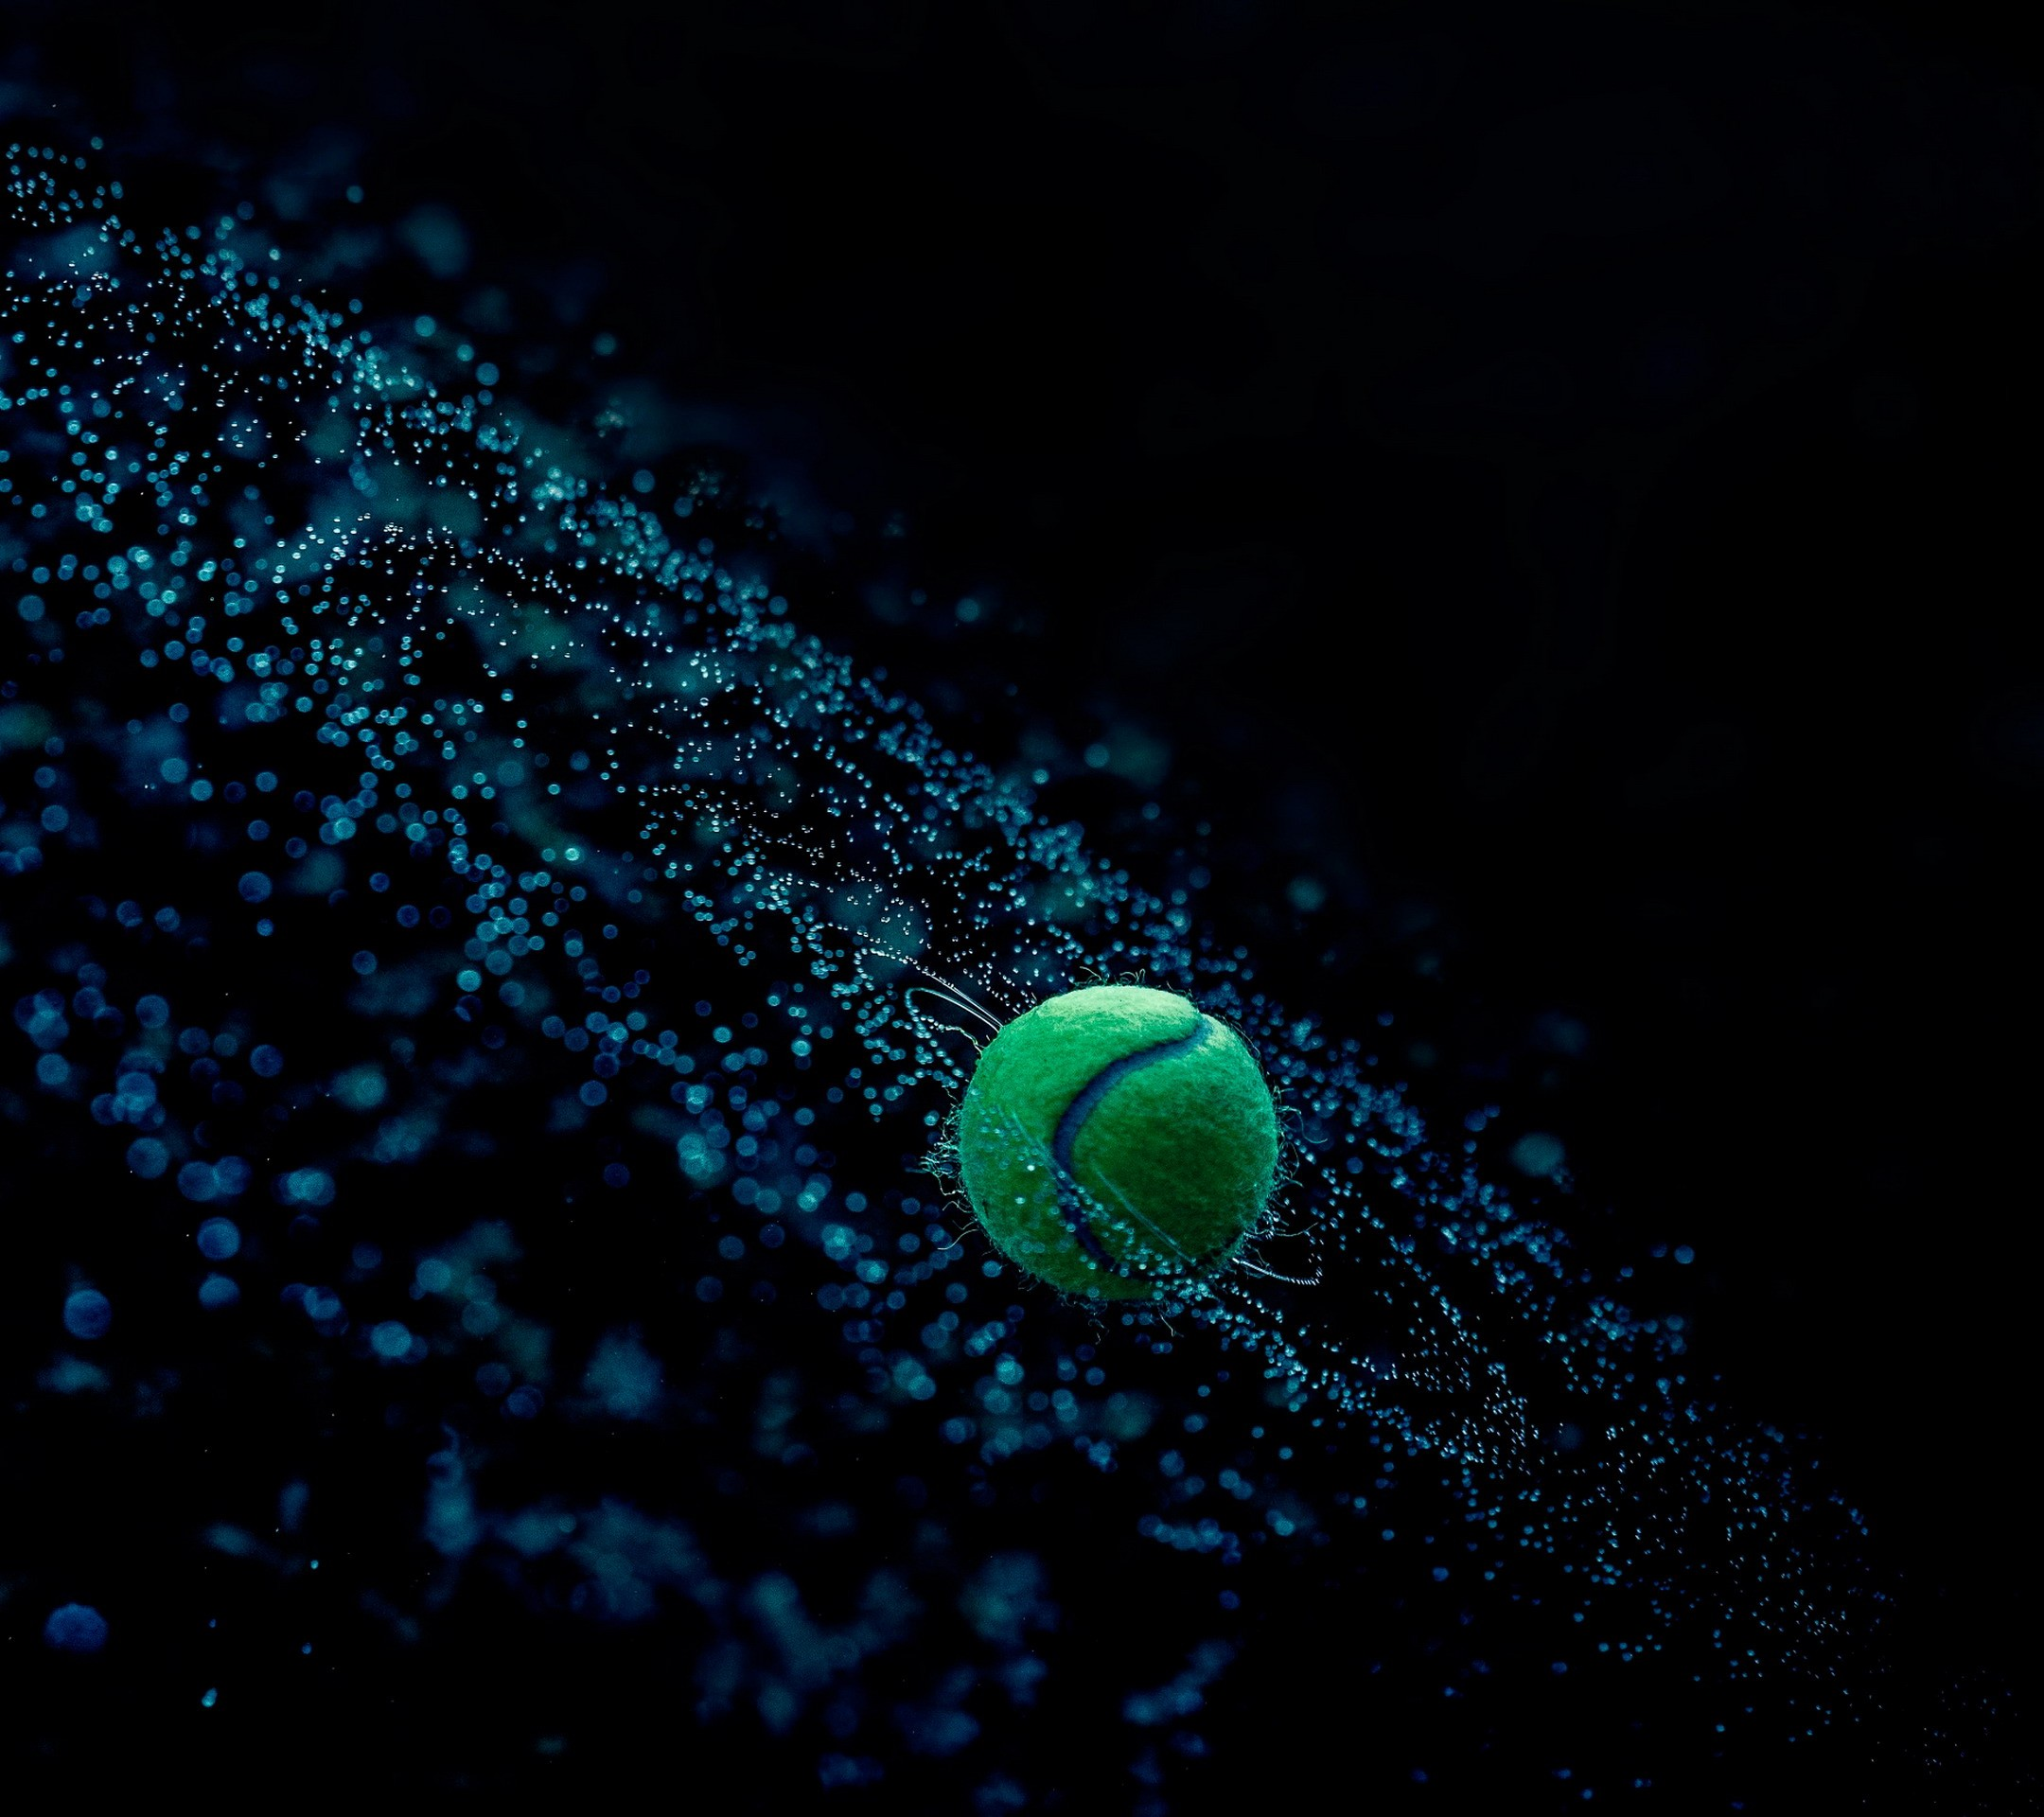tennis_ball: (948, 979, 1283, 1315)
